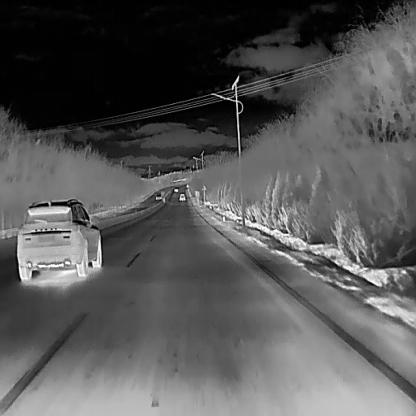car: (16, 196, 102, 280), (178, 192, 184, 200), (155, 192, 161, 200), (174, 186, 178, 191)
